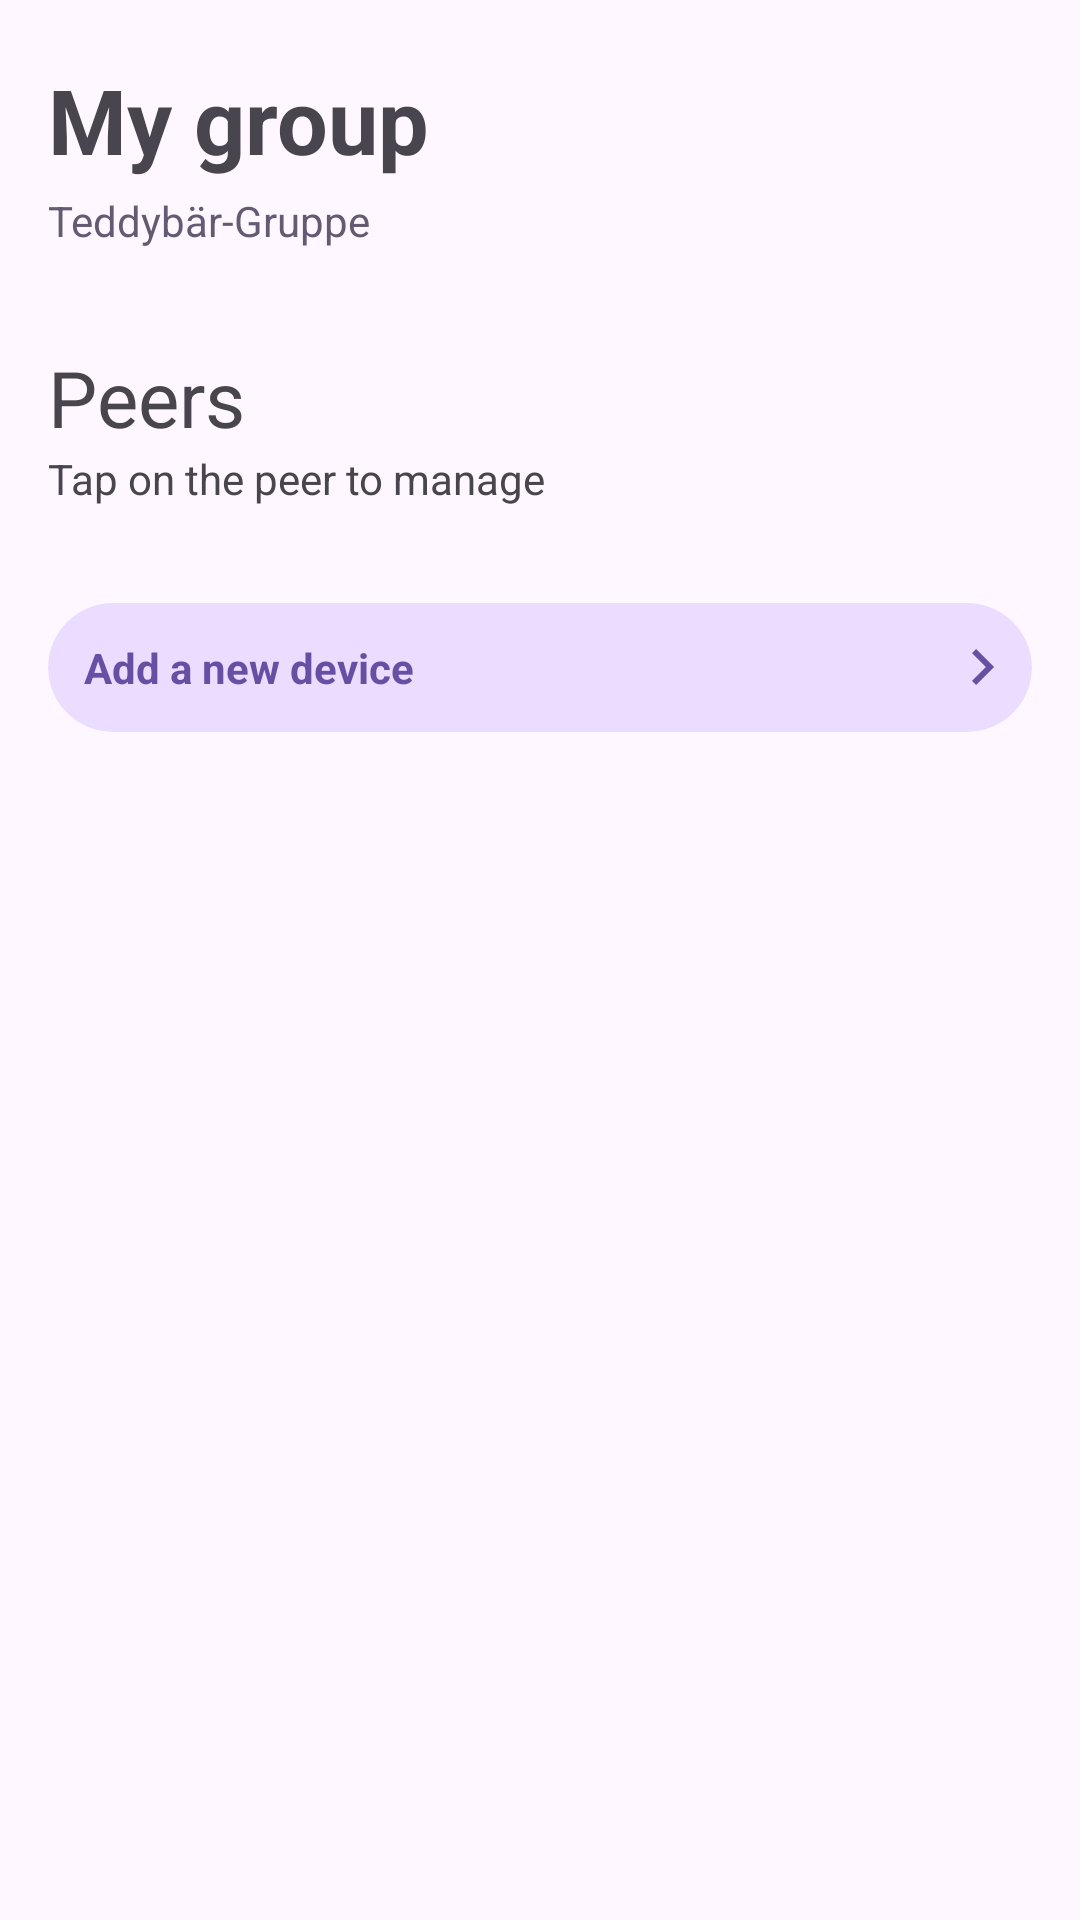

Icon click points for this 1080×1920 phone screenshot, format (x=x, y=y):
chevron right: (x=983, y=667)
